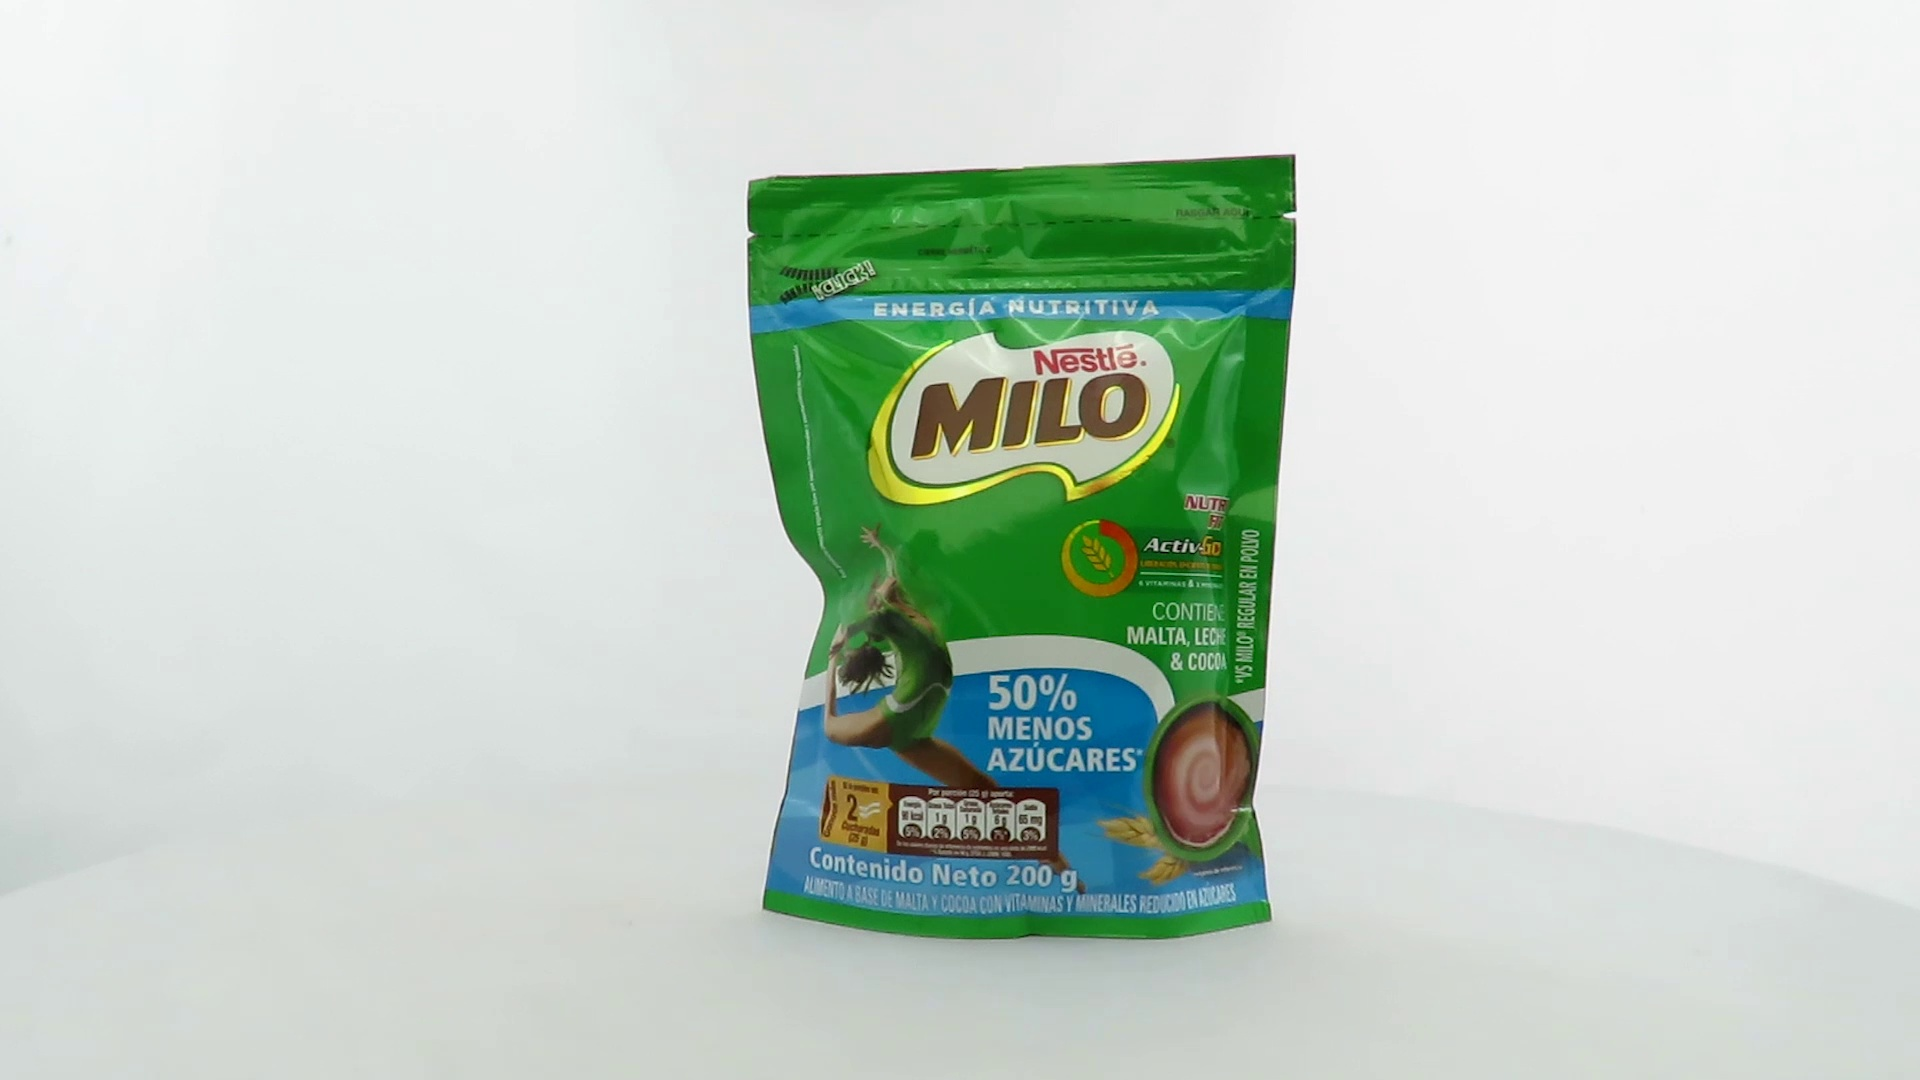COL0170205DYP20000: (742, 149, 1303, 945)
